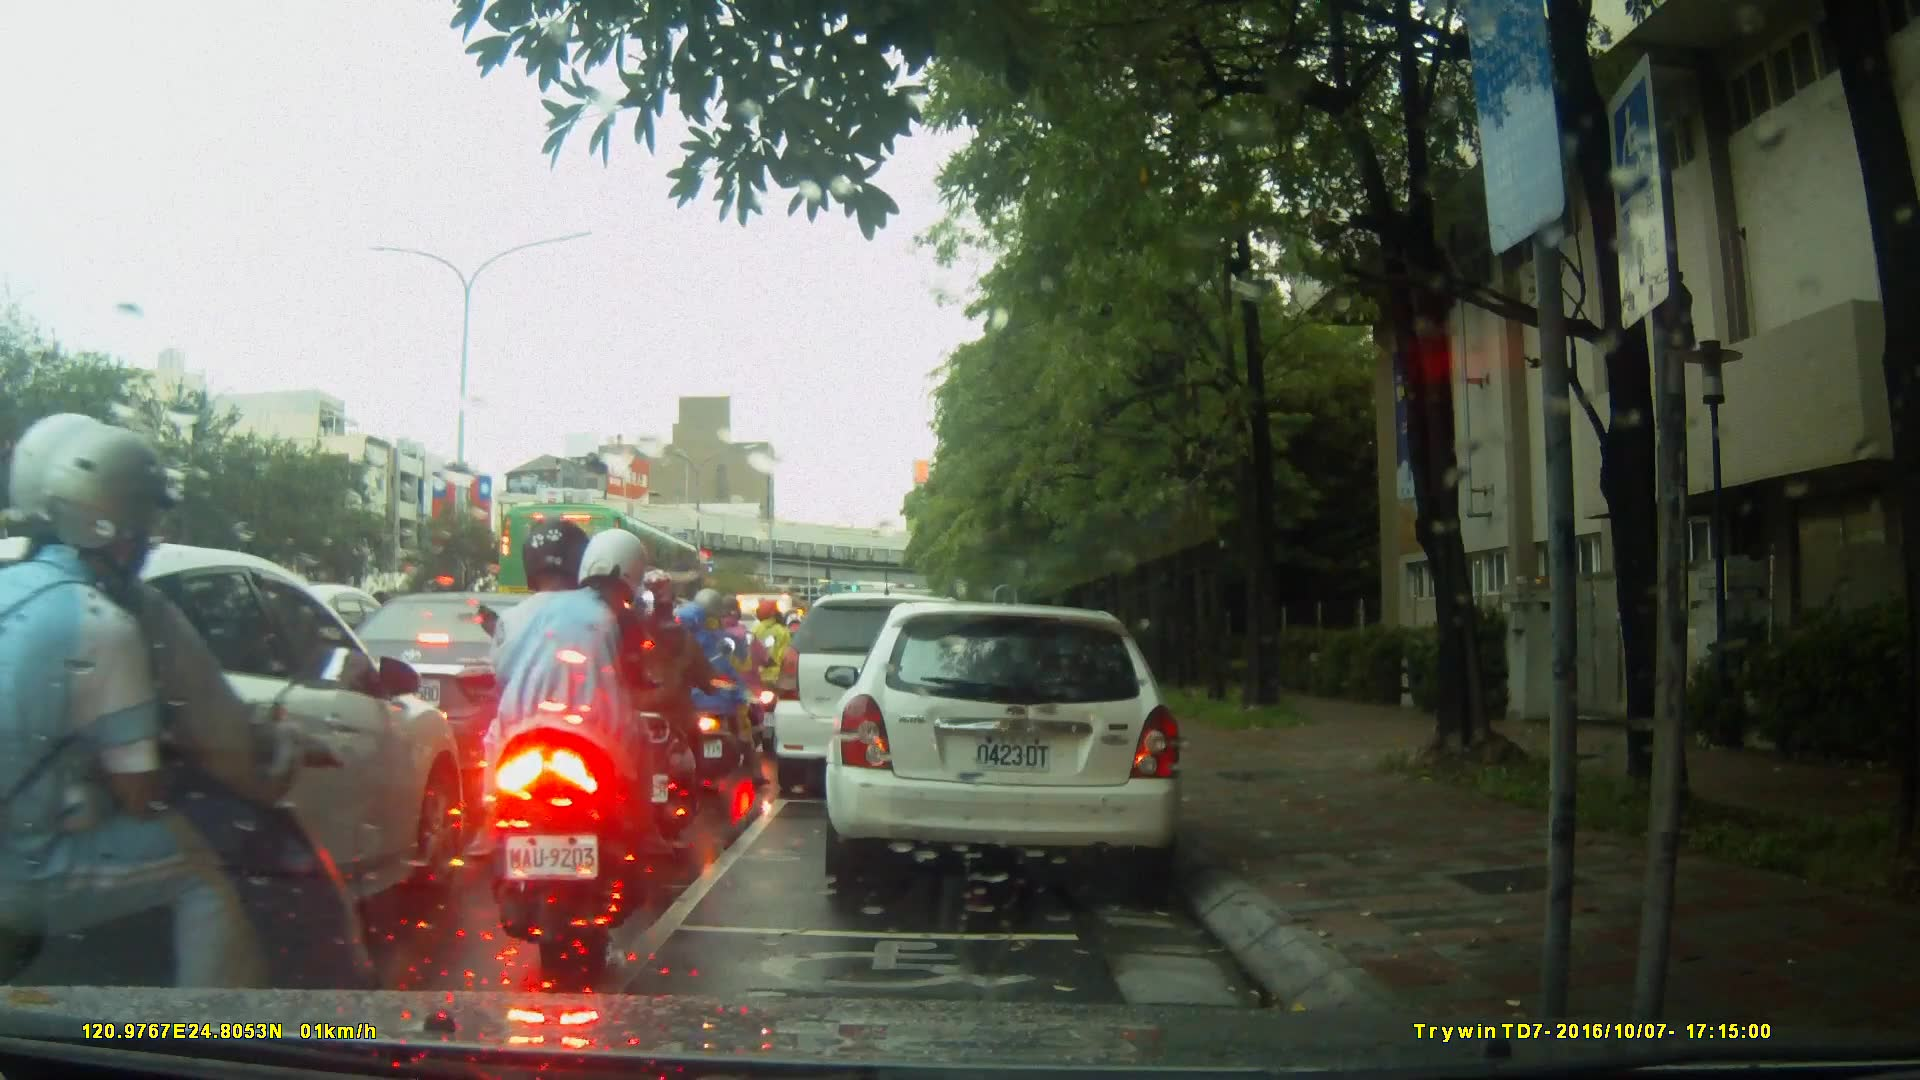rider: (1, 410, 402, 1080), (484, 517, 680, 969), (618, 572, 736, 838), (668, 588, 752, 789), (700, 598, 772, 764), (744, 598, 798, 742)
vehicle: (3, 536, 463, 988), (831, 592, 1196, 897), (312, 589, 629, 776), (771, 590, 999, 803), (496, 500, 710, 636)
